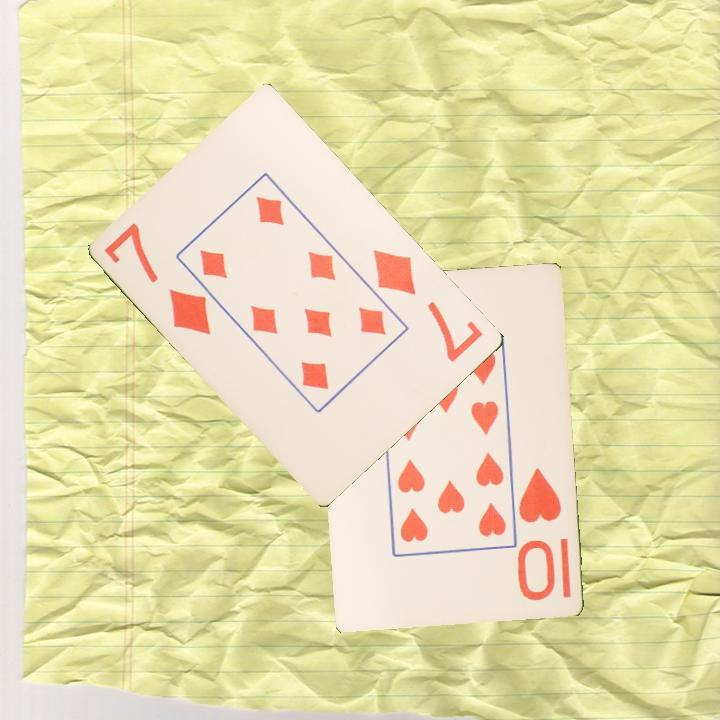10h: (515, 463, 563, 604)
7d: (370, 245, 487, 365), (101, 219, 215, 338)
